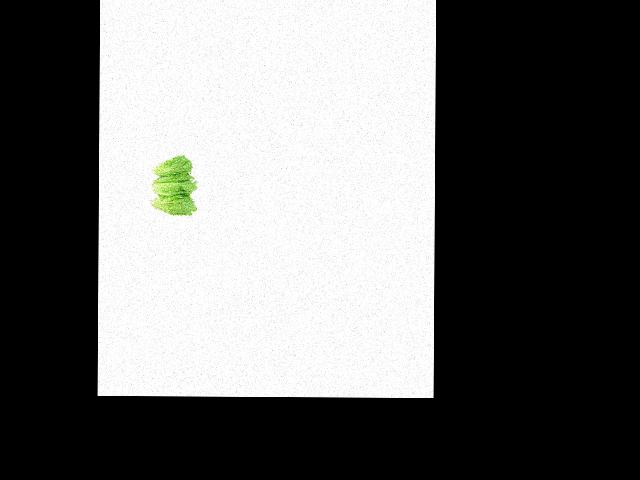lettuce: (141, 154, 194, 179)
